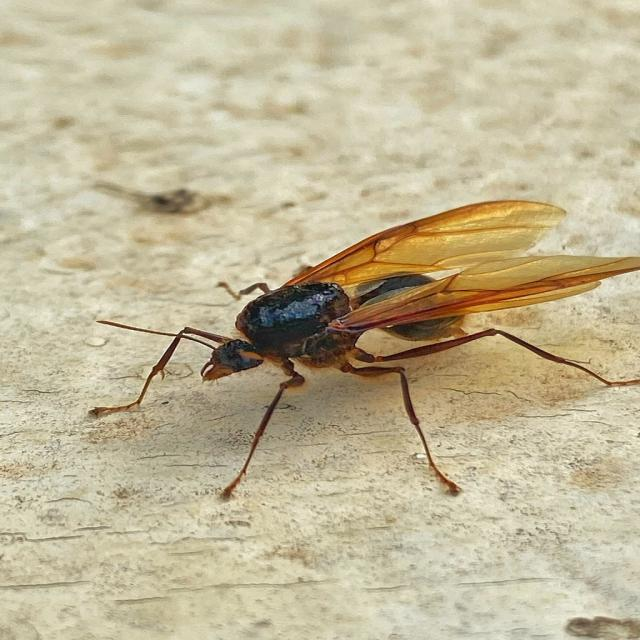Alive-Male-Alate: (89, 197, 640, 500)
